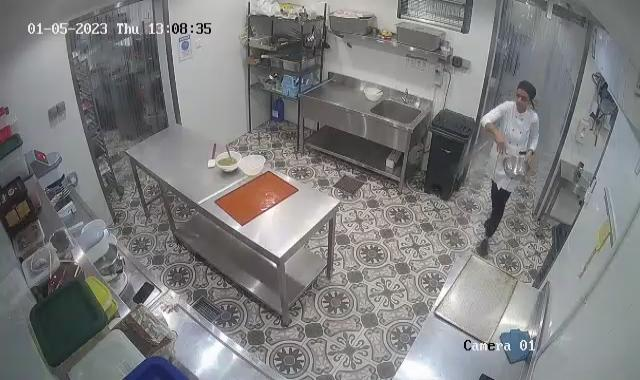no_hairnet: (515, 81, 535, 107)
